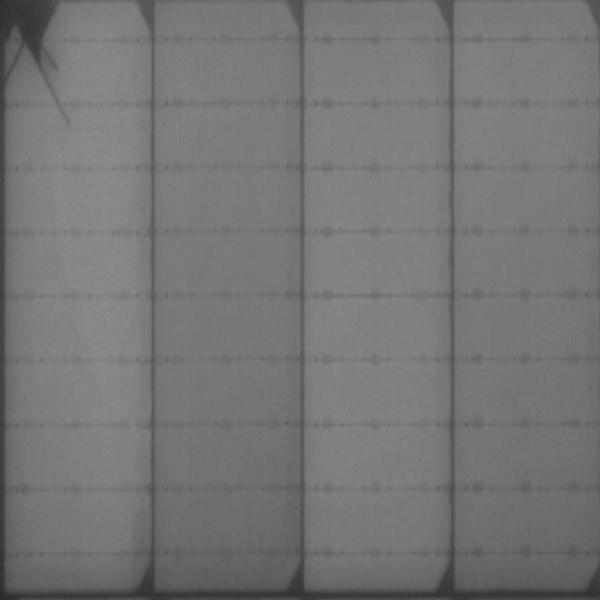broken: (1, 1, 78, 121)
